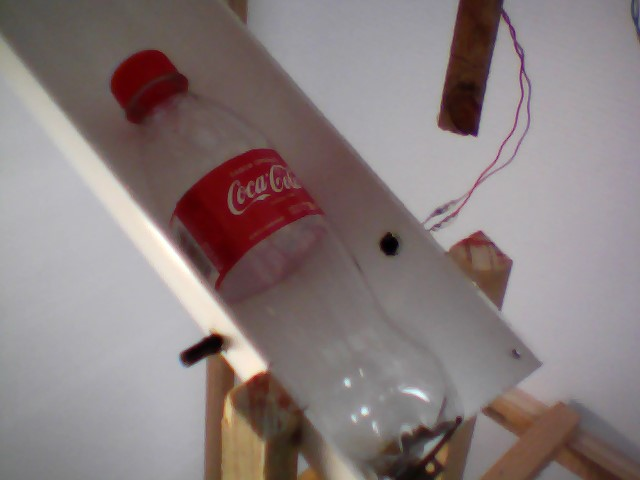plastico: (105, 42, 475, 480)
